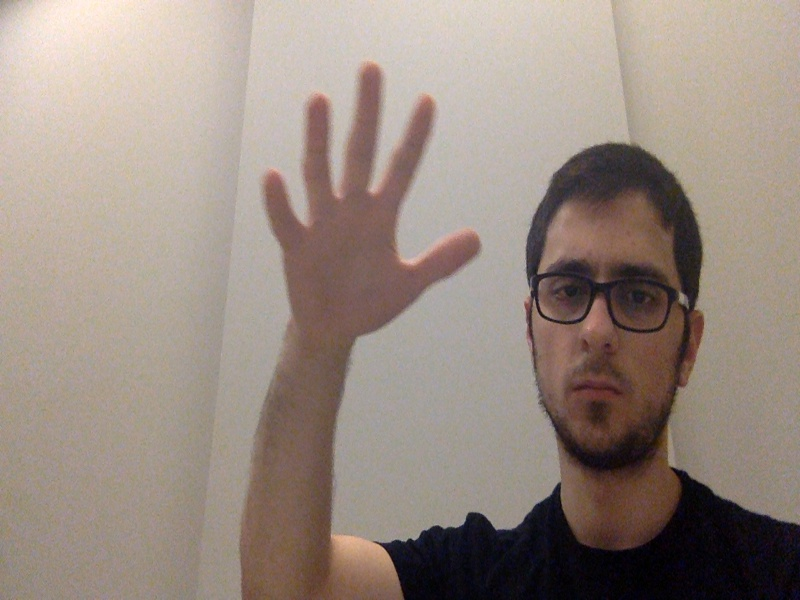5-hand: (257, 61, 483, 350)
